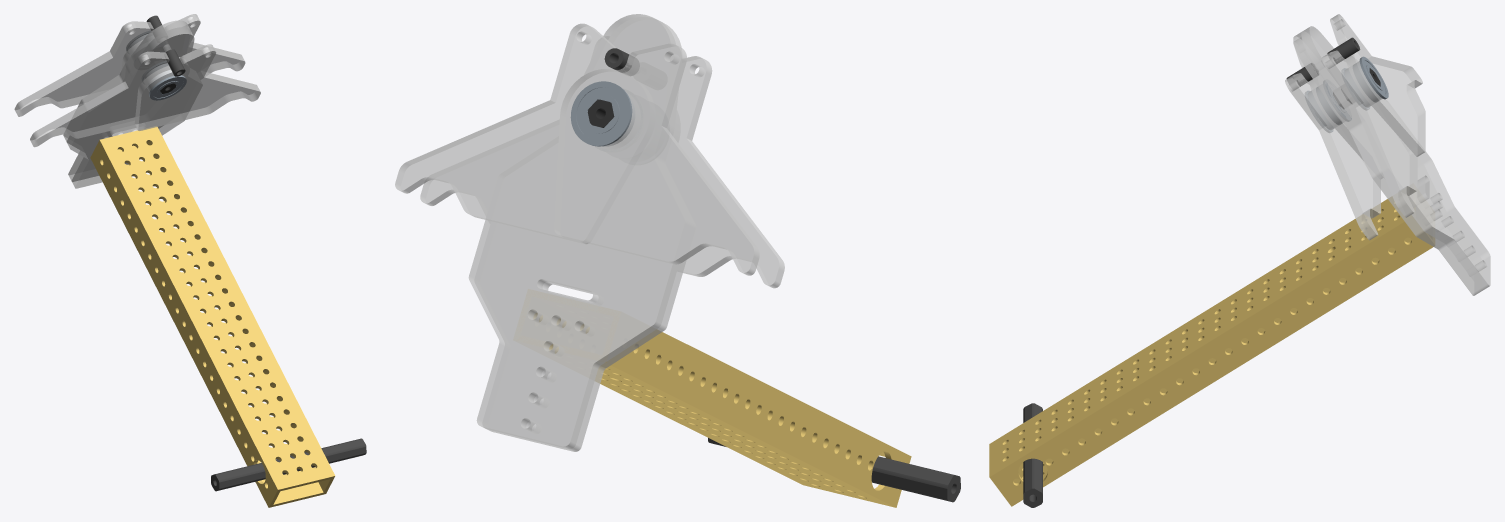
3 renders of one model, left to right at view 1: azimuth 30°, elevation 25°; view 2: azimuth 150°, elevation 25°; view 3: azimuth 270°, elevation 25°, orthographic. The views are drawn at different scales.
Parts seen in each view (by area): view 1: Long bar, Barb Finger (×4), Barb Body (×2), 1/2" ThunderHex - 5.125", .5" Hex ID 1.125" OD Flanged Bearing (217-2734); view 2: Barb Body (×2), Barb Finger (×4), Long bar, .5" Hex ID 1.125" OD Flanged Bearing (217-2734), 1/2" ThunderHex - 5.125"; view 3: Long bar, Barb Finger (×4), Barb Body (×2), .5" Hex ID 1.125" OD Flanged Bearing (217-2734) (×2), 1/2" ThunderHex - 5.125".
Part boxes in pixels (left/top/right/bottom): Long bar: left=90, top=126, right=335, bottom=507; Barb Finger (×4): left=14, top=14, right=260, bottom=147; Barb Body (×2): left=63, top=20, right=202, bottom=188; 1/2" ThunderHex - 5.125": left=211, top=438, right=366, bottom=491; .5" Hex ID 1.125" OD Flanged Bearing (217-2734): left=147, top=70, right=186, bottom=100; Barb Body (×2): left=468, top=14, right=695, bottom=451; Barb Finger (×4): left=395, top=23, right=784, bottom=288; Long bar: left=533, top=313, right=911, bottom=507; .5" Hex ID 1.125" OD Flanged Bearing (217-2734): left=570, top=81, right=634, bottom=146; 1/2" ThunderHex - 5.125": left=708, top=438, right=960, bottom=502; Long bar: left=989, top=197, right=1434, bottom=506; Barb Finger (×4): left=1285, top=14, right=1425, bottom=240; Barb Body (×2): left=1293, top=26, right=1490, bottom=295; .5" Hex ID 1.125" OD Flanged Bearing (217-2734) (×2): left=1316, top=56, right=1388, bottom=124; 1/2" ThunderHex - 5.125": left=1023, top=403, right=1042, bottom=507.
Bounding box in the file's own units: 0.1959 × 0.3277 × 0.3229.
